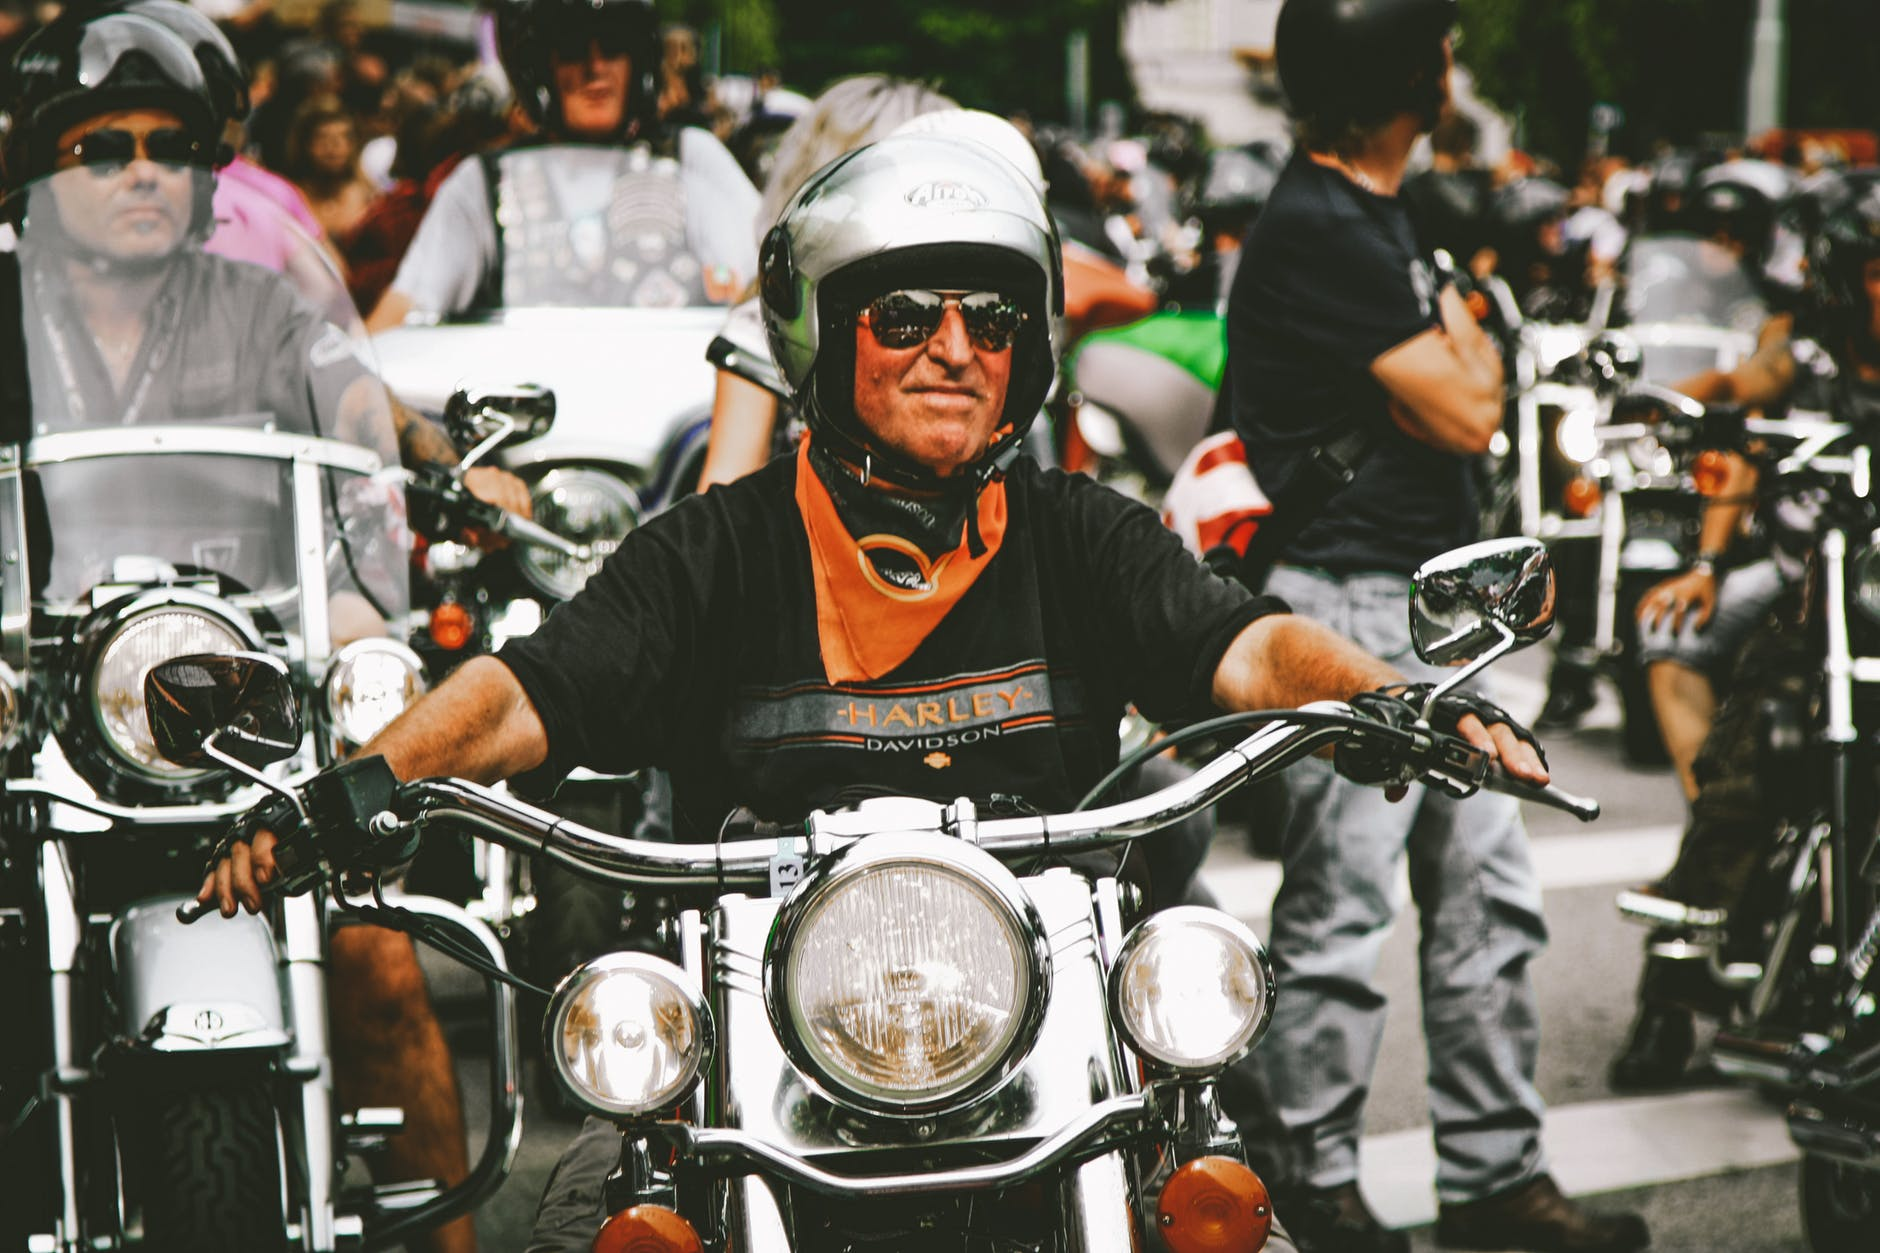helmet: (744, 148, 1062, 369)
